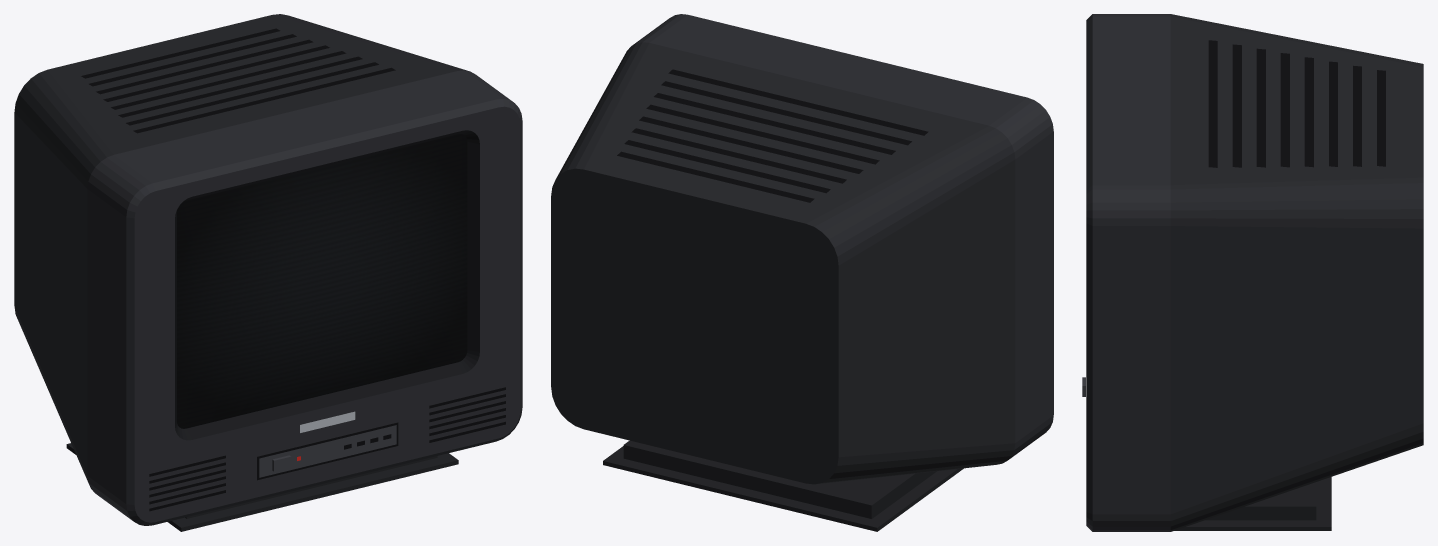
The model's file is crt_tv_90s.glb.
The picture shows the model from 3 angles, left to right: view 1: azimuth 30°, elevation 25°; view 2: azimuth 150°, elevation 25°; view 3: azimuth 270°, elevation 25°; orthographic projection.
Parts seen in each view (by area): view 1: box; view 2: box; view 3: box.
Part boxes in pixels (<box>): box: <box>14,14,522,531</box>; box: <box>551,14,1053,531</box>; box: <box>1082,14,1423,531</box>.
Size of the model in its own units: 1 by 0.8683 by 0.7427.
2 materials, 2 textured.
